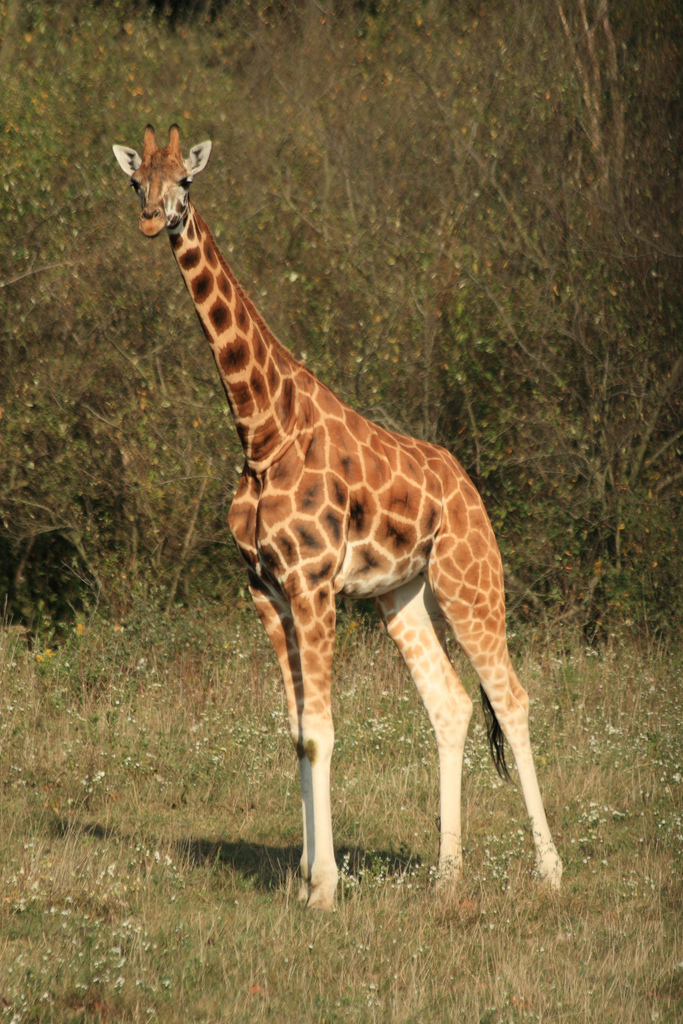giraffe: (120, 95, 566, 919)
